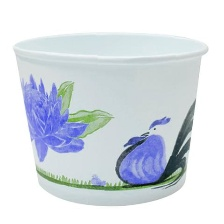paper_cup: (9, 25, 212, 211)
